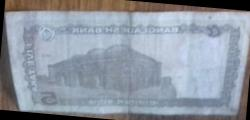5 taka: (5, 10, 240, 116)
